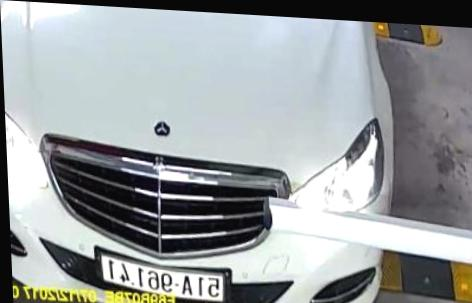License_Plate: (91, 247, 236, 303)
